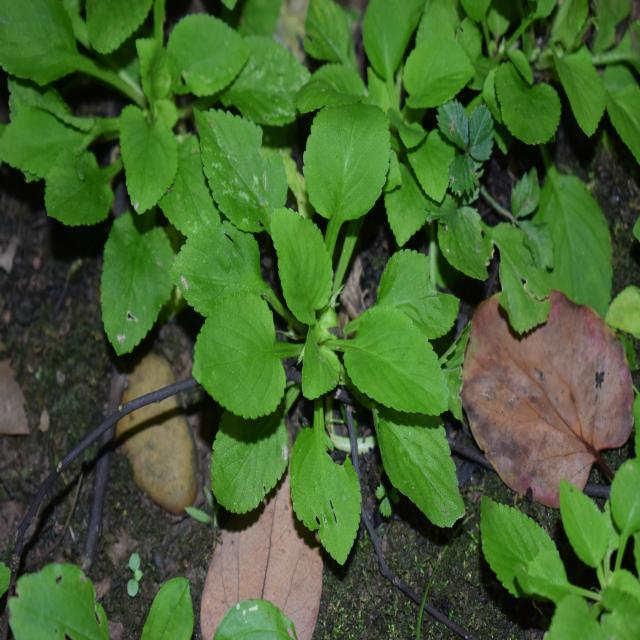Viola: (179, 141, 475, 538)
